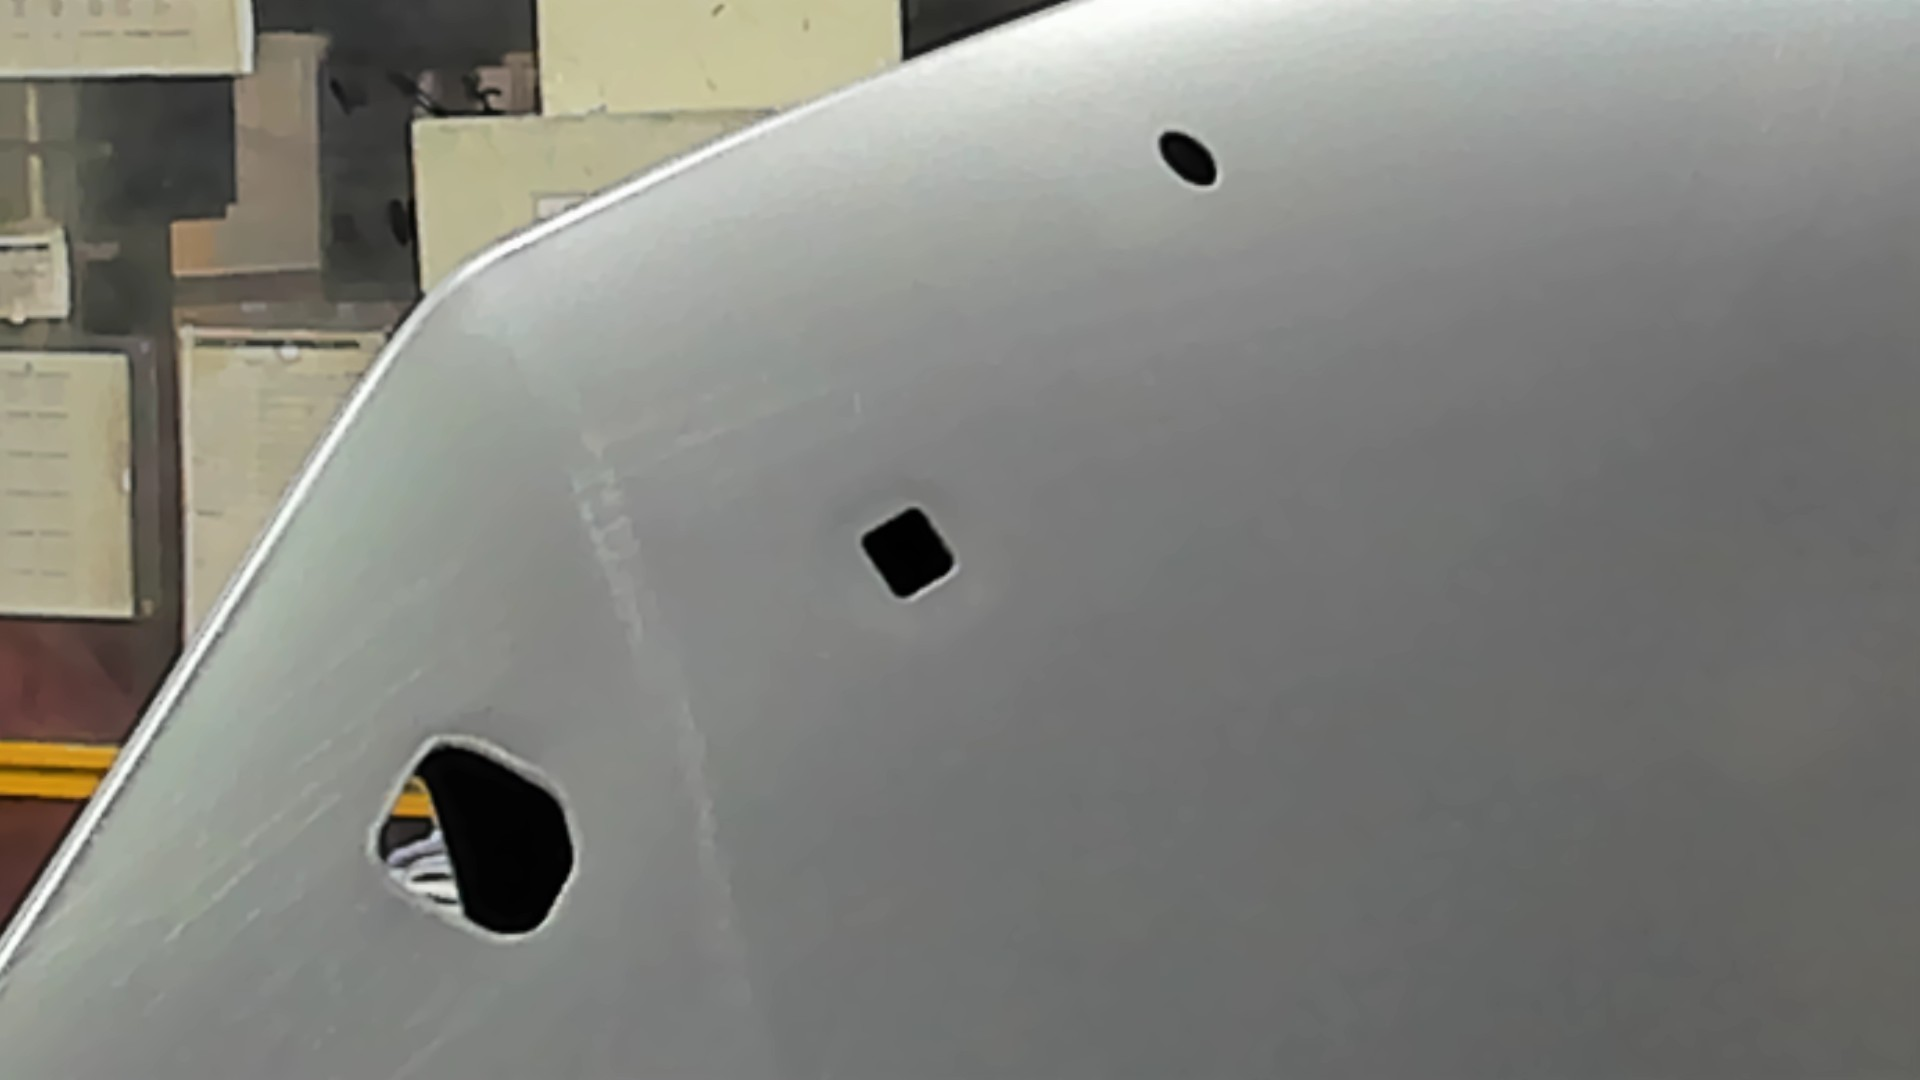chico: (1154, 124, 1222, 194)
grande: (357, 727, 584, 945)
mediano: (853, 501, 968, 607)
